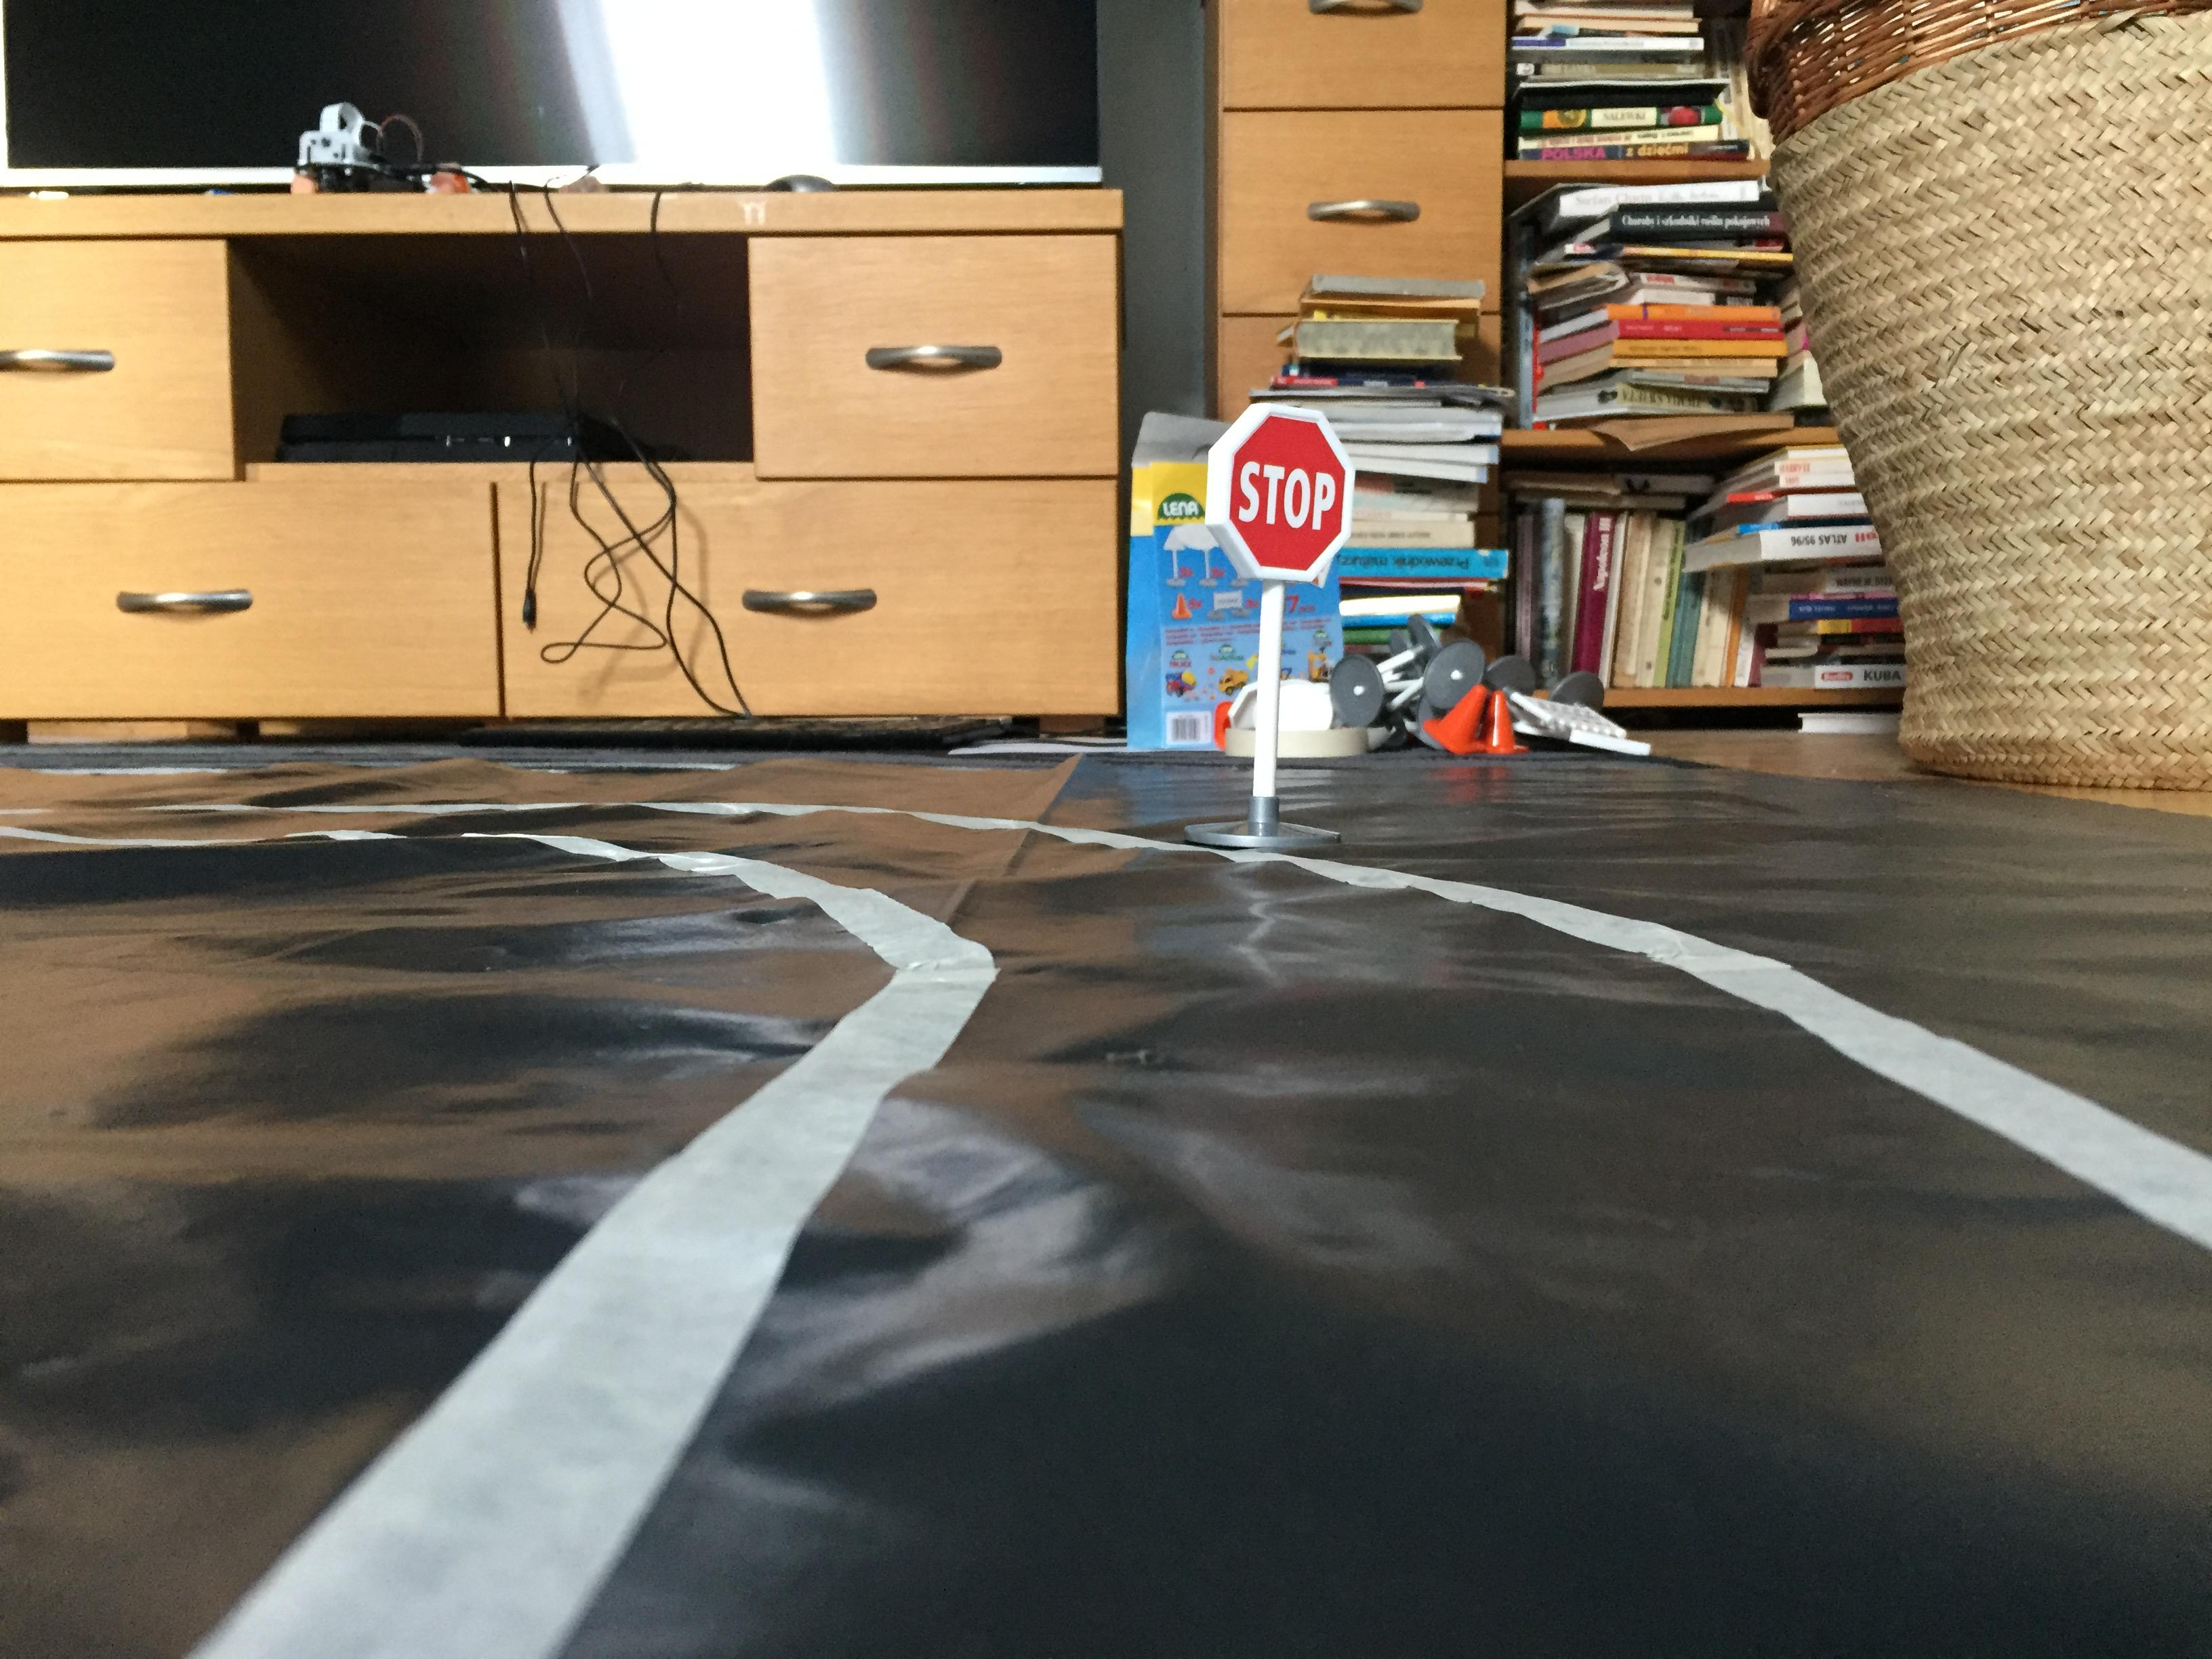stop: (1198, 394, 1360, 594)
